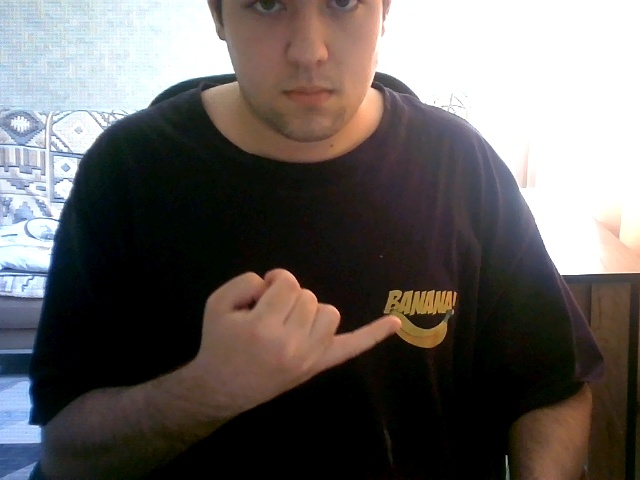bad: (184, 250, 410, 414)
